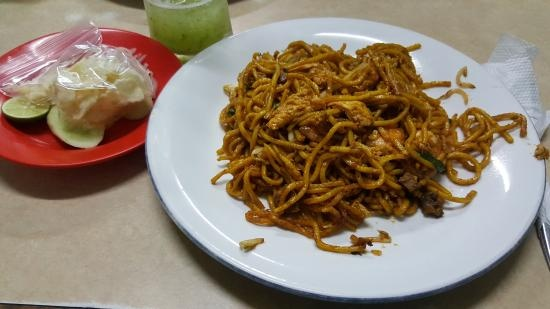mie_aceh: (216, 39, 530, 251)
